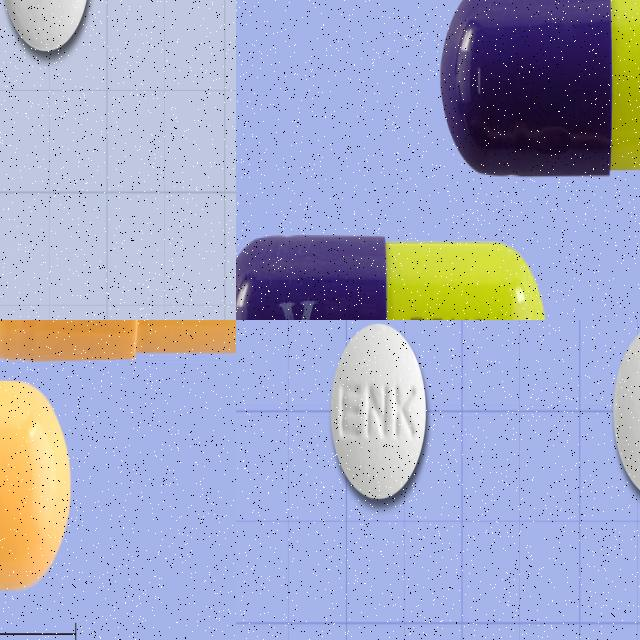Levoflo: (330, 323, 428, 499), (613, 322, 640, 500)
Qsymia Cap-7-5mg: (441, 0, 640, 176), (236, 235, 547, 320)
TaeJoon Levofloxacin Tab: (0, 368, 70, 598)
Withus Levofloxacin Tab: (3, 0, 91, 52)
